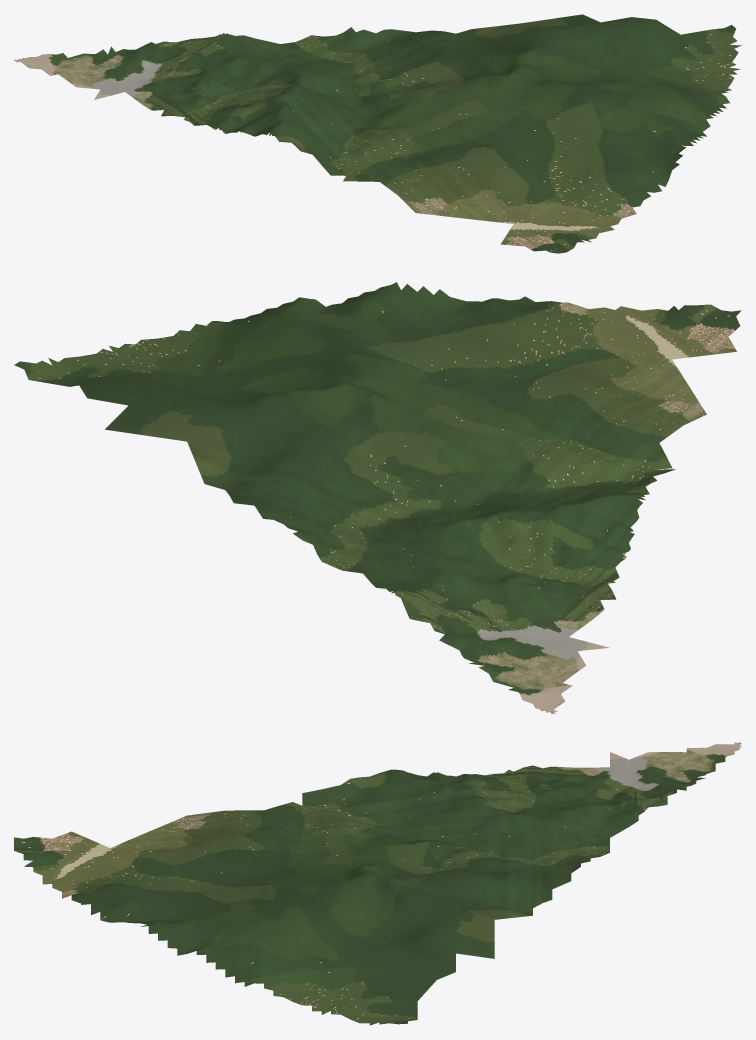
The model's file is SM_Fondale_Colline_N_LOD1.fbx.
3 views of the same model, one above another, from view 1: azimuth 30°, elevation 25°; view 2: azimuth 150°, elevation 25°; view 3: azimuth 270°, elevation 25° (orthographic). The views are drawn at different scales.
Parts seen in each view (by area): view 1: SM_Fondale_Colline_N_LOD1; view 2: SM_Fondale_Colline_N_LOD1; view 3: SM_Fondale_Colline_N_LOD1.
Part boxes in pixels (bbox=[...]): SM_Fondale_Colline_N_LOD1: bbox=[14, 14, 741, 253]; SM_Fondale_Colline_N_LOD1: bbox=[14, 282, 741, 713]; SM_Fondale_Colline_N_LOD1: bbox=[14, 742, 741, 1025].
Size of the model in its own units: 870000 by 909000 by 60583.
1 material, 1 textured.
